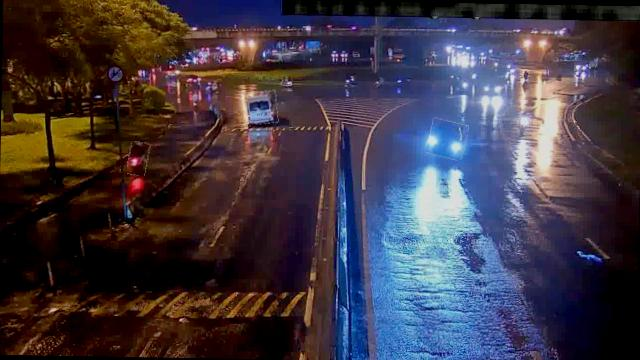Bike: (128, 142, 149, 176)
Bus: (244, 90, 278, 124)
Car: (426, 118, 467, 158)
